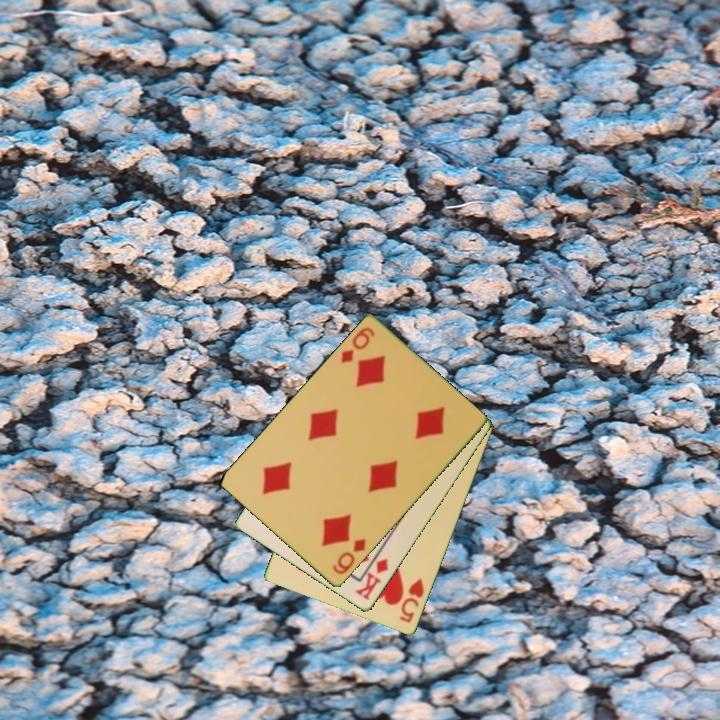5h: (396, 575, 427, 626)
6d: (329, 535, 369, 578), (337, 324, 377, 367)
Kd: (352, 555, 391, 603)
